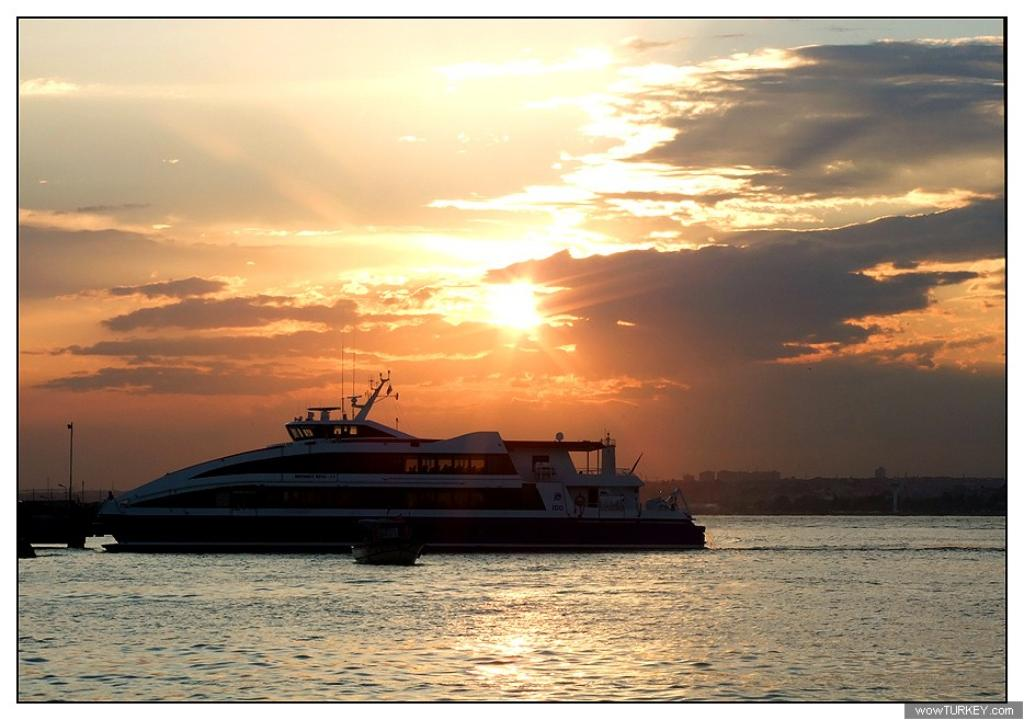PassengerShip: (96, 350, 710, 556)
